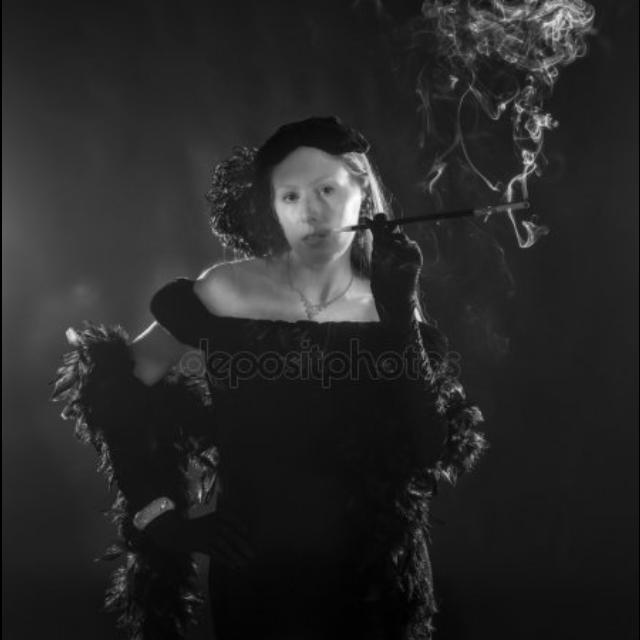rokok: (494, 199, 532, 215)
